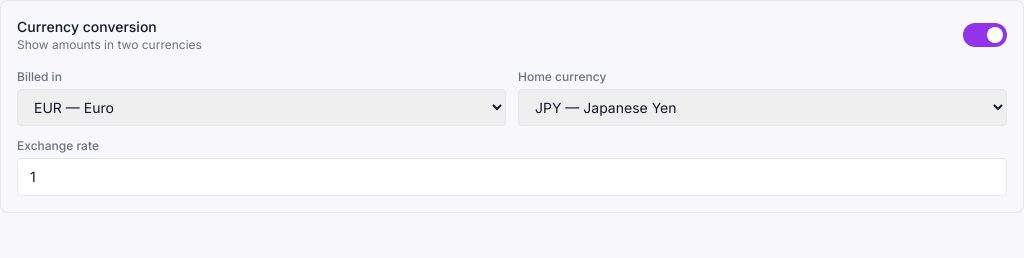
Test: CurrencyConversionForm — same-currency error timing › shows error after user selects billed currency matching home currency
The width and height of the screenshot is (1024, 258).
Select "JPY — Japanese Yen" in the dropdown below "Billed in": (262, 108) [17,89,506,126]
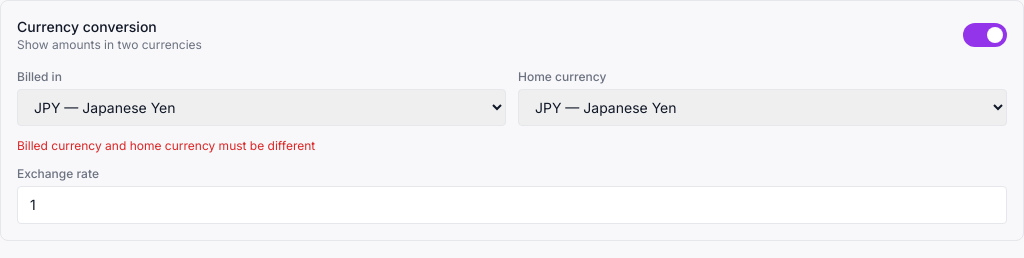
Expected: the text "Billed currency and home currency must be different" is shown, [17,138,315,153]
